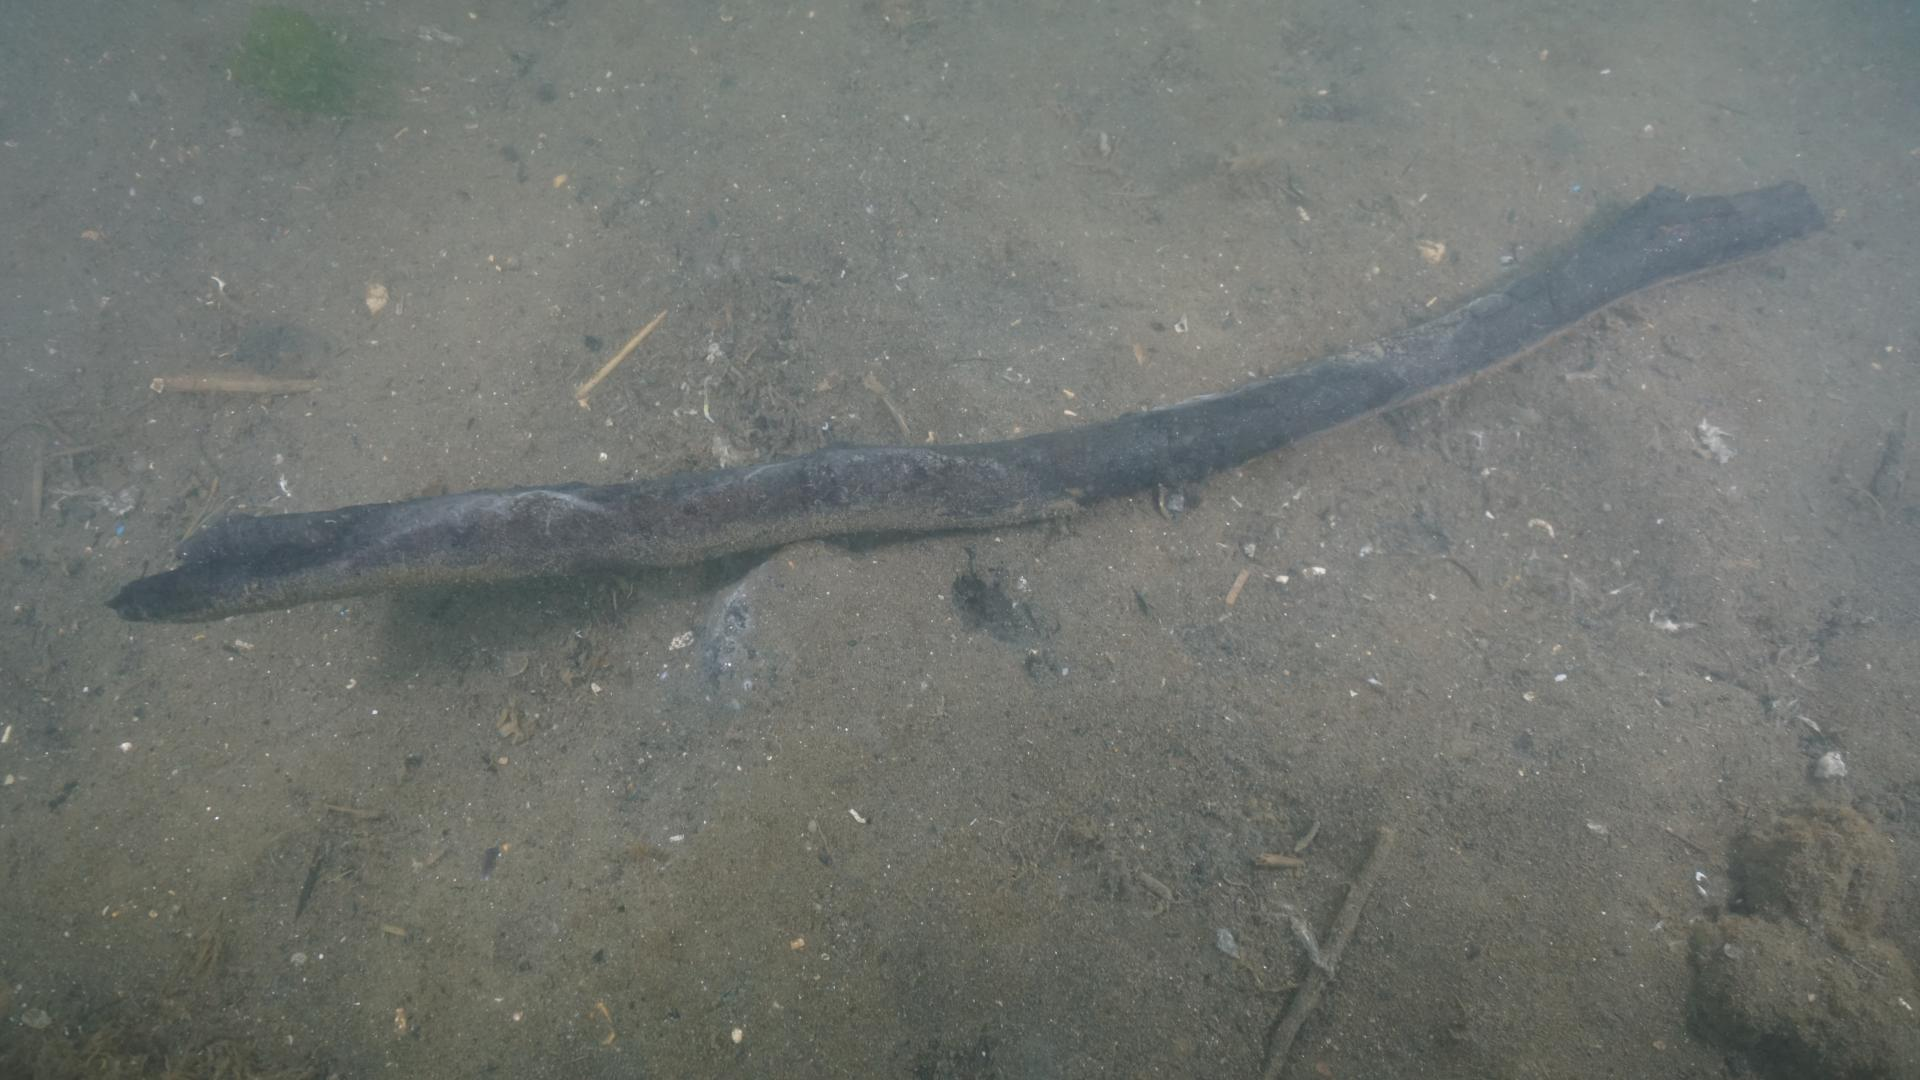wood: (102, 179, 1822, 624)
